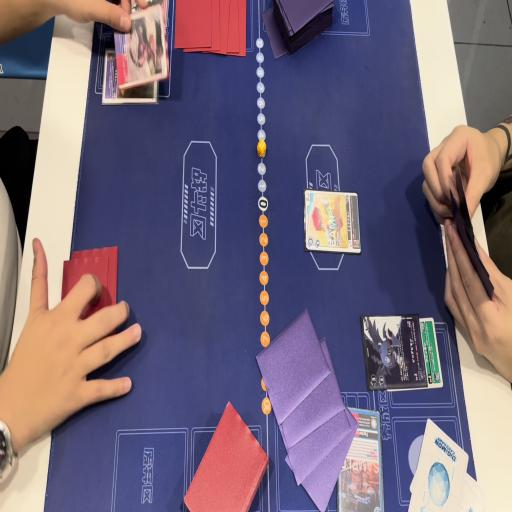card: (359, 315, 423, 394), (338, 410, 384, 512), (113, 6, 167, 90), (304, 185, 362, 254), (418, 315, 443, 392), (100, 48, 125, 102)
